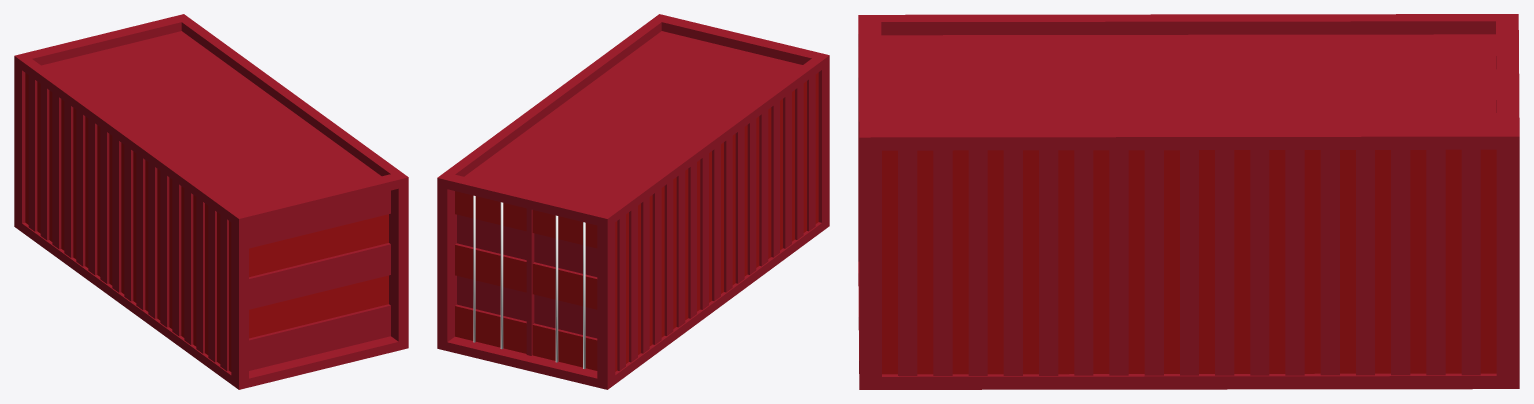
File: ISO-Container-Red.glb
The picture shows the model from 3 angles, left to right: view 1: azimuth 30°, elevation 25°; view 2: azimuth 150°, elevation 25°; view 3: azimuth 270°, elevation 25°; orthographic projection. The views are drawn at different scales.
Parts seen in each view (by area): view 1: container.001; view 2: container.001; view 3: container.001.
Boxes of the visible parts, x1,y1,x2,y2 form: container.001: (14,14,408,389); container.001: (437,14,829,389); container.001: (858,14,1519,389).
Size of the model in its own units: 6.75 by 6.43 by 15.27.
